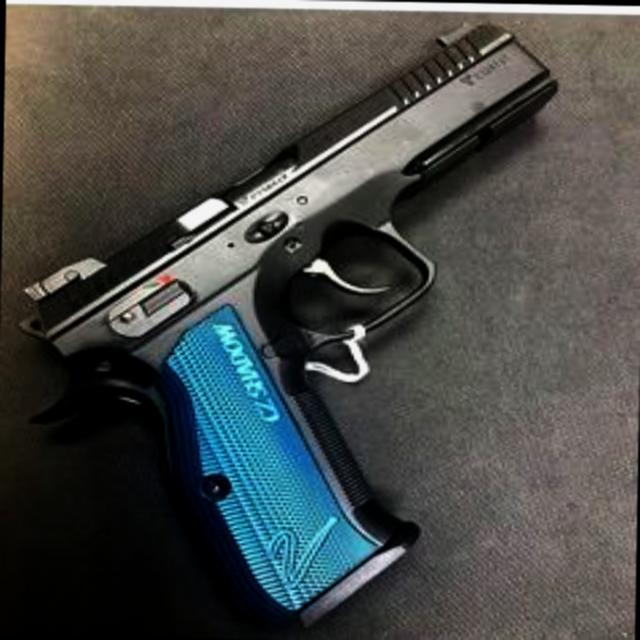semi automatic: (11, 0, 587, 627)
